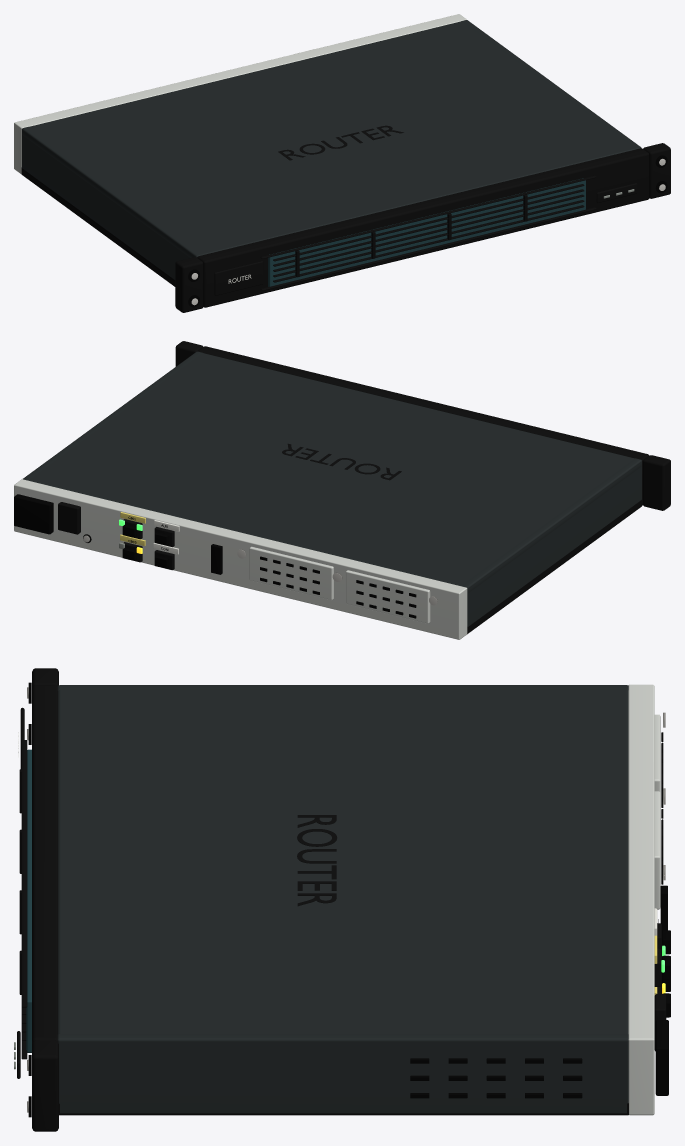
File: RackRouter_1U_RearFourLED_19in.fbx
The picture shows the model from 3 angles, top to bottom: view 1: azimuth 30°, elevation 25°; view 2: azimuth 150°, elevation 25°; view 3: azimuth 270°, elevation 25°; orthographic projection. The views are drawn at different scales.
Visible parts, largest first — view 1: Router_1U_body_top_dark_lid, Router_front_black_bezel, Router_left_side_wall, Router_front_blue_grille_recess, Router_rear_silver_io_panel, Router_1U_rack_ear_full_19in_span, Router_front_left_badge_panel, Router_bottom_shadow, Router_right_side_wall, Router_front_horizontal_grille_line_07, Router_front_horizontal_grille_line_01, Router_1U_rack_ear_full_19in_span.001 (+6 smaller); view 2: Router_1U_body_top_dark_lid, Router_rear_silver_io_panel, Router_left_side_wall, Router_front_black_bezel, Router_rear_module_blank_1, Router_rear_module_blank_2, Router_1U_rack_ear_full_19in_span, Router_rear_power_inlet, Router_bottom_shadow, Router_right_side_wall, Router_rear_power_switch, Router_top_embossed_name; view 3: Router_1U_body_top_dark_lid, Router_right_side_wall, Router_rear_silver_io_panel, Router_front_black_bezel, Router_left_side_wall, Router_1U_rack_ear_full_19in_span.001, Router_front_horizontal_grille_line_07, Router_bottom_shadow, Router_top_embossed_name, Router_front_blue_grille_recess, Router_rear_power_inlet, Router_rear_module_blank_2.
Part boxes in pixels (<box>): Router_1U_body_top_dark_lid: <box>22,21,634,257</box>; Router_front_black_bezel: <box>197,148,649,307</box>; Router_left_side_wall: <box>22,126,203,279</box>; Router_front_blue_grille_recess: <box>268,178,585,286</box>; Router_rear_silver_io_panel: <box>14,14,466,174</box>; Router_1U_rack_ear_full_19in_span: <box>175,257,203,312</box>; Router_front_left_badge_panel: <box>214,261,263,295</box>; Router_bottom_shadow: <box>21,167,175,286</box>; Router_right_side_wall: <box>461,20,641,149</box>; Router_front_horizontal_grille_line_07: <box>260,175,596,258</box>; Router_front_horizontal_grille_line_01: <box>260,207,596,290</box>; Router_1U_rack_ear_full_19in_span.001: <box>643,143,670,198</box>; Router_1U_body_top_dark_lid: <box>29,353,641,592</box>; Router_rear_silver_io_panel: <box>14,479,467,639</box>; Router_left_side_wall: <box>461,458,641,626</box>; Router_front_black_bezel: <box>198,346,649,505</box>; Router_rear_module_blank_1: <box>345,570,430,623</box>; Router_rear_module_blank_2: <box>249,546,333,600</box>; Router_1U_rack_ear_full_19in_span: <box>643,455,670,510</box>; Router_rear_power_inlet: <box>14,494,53,534</box>; Router_bottom_shadow: <box>467,499,642,634</box>; Router_right_side_wall: <box>23,351,203,480</box>; Router_rear_power_switch: <box>58,502,80,534</box>; Router_top_embossed_name: <box>282,443,401,480</box>; Router_1U_body_top_dark_lid: <box>58,689,628,1034</box>; Router_right_side_wall: <box>57,1034,628,1113</box>; Router_rear_silver_io_panel: <box>628,684,654,1115</box>; Router_front_black_bezel: <box>32,685,57,1043</box>; Router_left_side_wall: <box>57,685,628,690</box>; Router_1U_rack_ear_full_19in_span.001: <box>32,1040,58,1131</box>; Router_front_horizontal_grille_line_07: <box>21,740,27,1007</box>; Router_bottom_shadow: <box>59,1103,628,1115</box>; Router_top_embossed_name: <box>297,815,337,906</box>; Router_front_blue_grille_recess: <box>26,749,31,1052</box>; Router_rear_power_inlet: <box>655,1020,668,1095</box>; Router_rear_module_blank_2: <box>654,791,660,909</box>.
Size of the model in its own units: 48.26 by 4.55 by 34.4.
